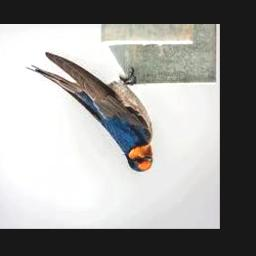Swallow: (25, 52, 152, 172)
